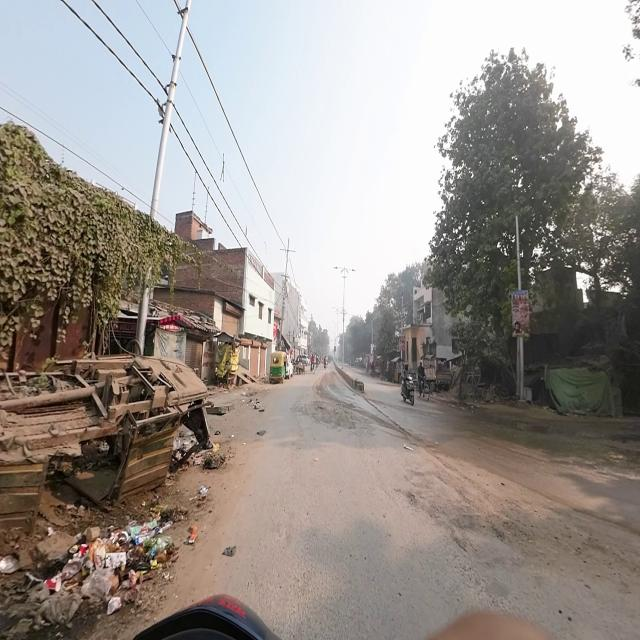Garbage: (5, 509, 172, 610), (175, 439, 228, 476), (182, 481, 210, 548), (248, 397, 265, 417)
